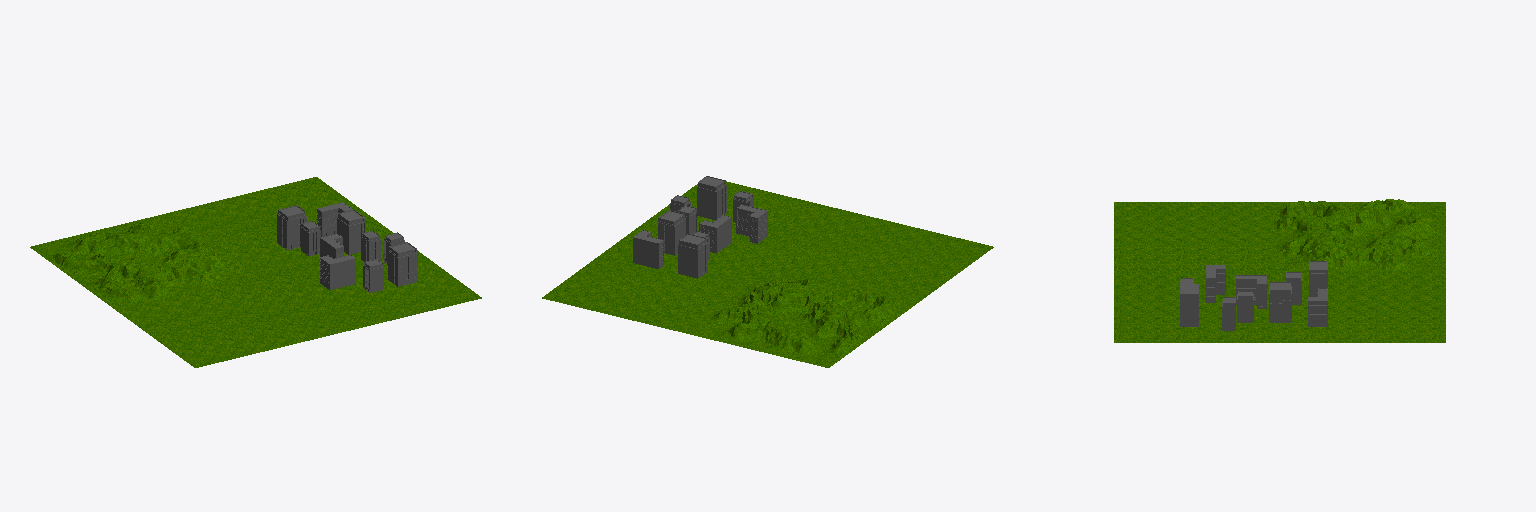
3 renders of one model, left to right at view 1: azimuth 30°, elevation 25°; view 2: azimuth 150°, elevation 25°; view 3: azimuth 270°, elevation 25°, orthographic.
Visible parts, largest first — view 1: Plane001, WS_free_terrain_001, Building11.006, Building10.001, Building11.002, Building11.003, Building10, Building11.005, Building11.001, Building11.004; view 2: Plane001, WS_free_terrain_001, Building11.002, Building11.006, Building10.001, Building10, Building11.003, Building10.002; view 3: Plane001, WS_free_terrain_001, Building11.003, Building11.006, Building10.002, Building10, Building10.001, Building11.002, Building11.004.
Part boxes in pixels (left/top/right/bottom): Plane001: left=30, top=177, right=481, bottom=367; WS_free_terrain_001: left=33, top=214, right=256, bottom=308; Building11.006: left=388, top=242, right=417, bottom=286; Building10.001: left=320, top=255, right=355, bottom=289; Building11.002: left=277, top=205, right=306, bottom=249; Building11.003: left=337, top=210, right=365, bottom=254; Building10: left=317, top=202, right=352, bottom=236; Building11.005: left=363, top=259, right=383, bottom=292; Building11.001: left=301, top=221, right=320, bottom=255; Building11.004: left=361, top=231, right=380, bottom=261; Plane001: left=542, top=181, right=993, bottom=367; WS_free_terrain_001: left=689, top=272, right=913, bottom=365; Building11.002: left=678, top=234, right=707, bottom=278; Building11.006: left=697, top=176, right=726, bottom=219; Building10.001: left=736, top=204, right=767, bottom=243; Building10: left=633, top=230, right=663, bottom=268; Building11.003: left=658, top=210, right=685, bottom=255; Building10.002: left=699, top=215, right=731, bottom=252; Plane001: left=1114, top=202, right=1445, bottom=342; WS_free_terrain_001: left=1274, top=199, right=1438, bottom=271; Building11.003: left=1269, top=282, right=1291, bottom=322; Building11.006: left=1180, top=284, right=1198, bottom=326; Building10.002: left=1236, top=275, right=1266, bottom=308; Building10: left=1308, top=288, right=1327, bottom=326; Building10.001: left=1206, top=265, right=1225, bottom=302; Building11.002: left=1309, top=261, right=1327, bottom=296; Building11.004: left=1237, top=291, right=1253, bottom=322.
Size of the model in its own units: 15.95 by 1.84 by 15.95.
4 materials, 1 textured.